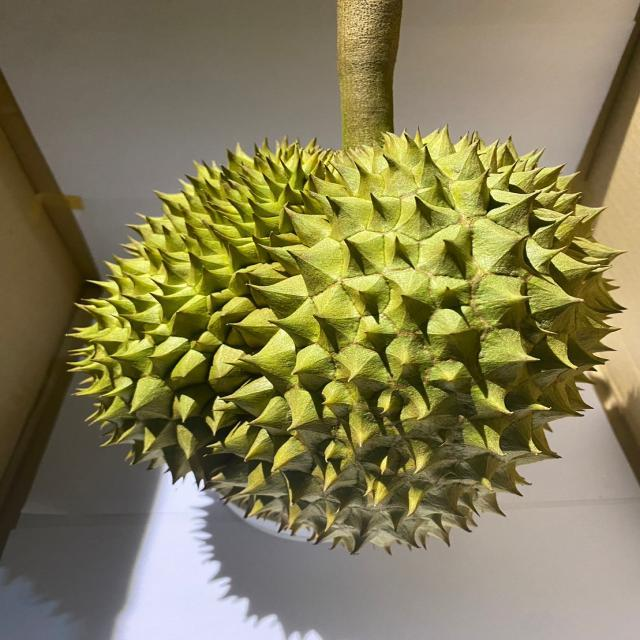immature: (66, 124, 630, 554)
